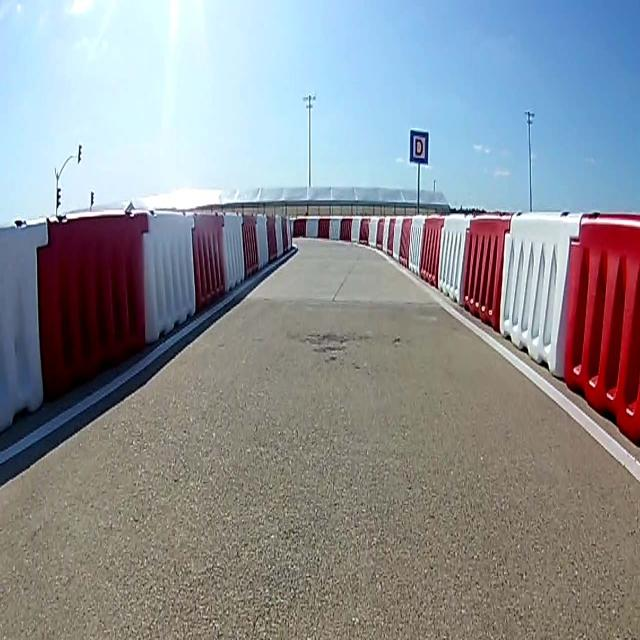durak: (410, 130, 428, 164)
